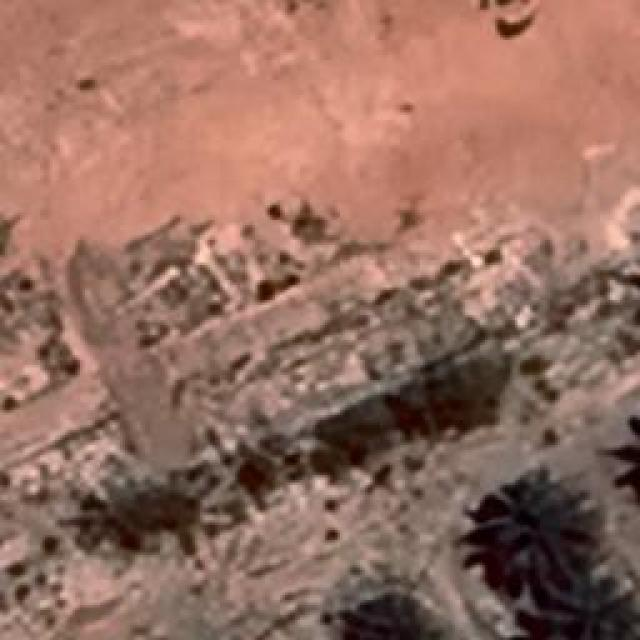PalmTree: (107, 43, 589, 610), (98, 60, 398, 618), (472, 494, 592, 574), (404, 352, 499, 434), (622, 406, 640, 516)
